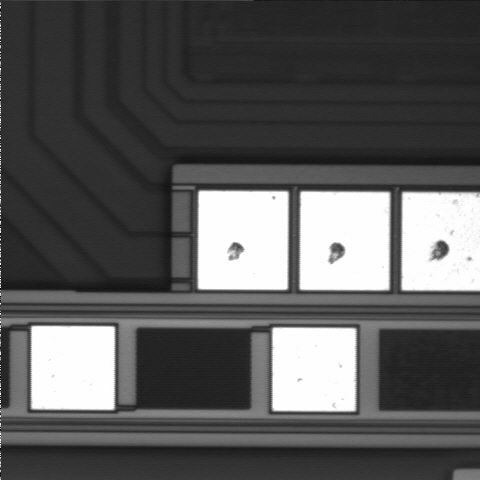pad: (198, 191, 288, 290), (300, 192, 390, 290), (31, 326, 115, 410), (273, 328, 356, 411)
